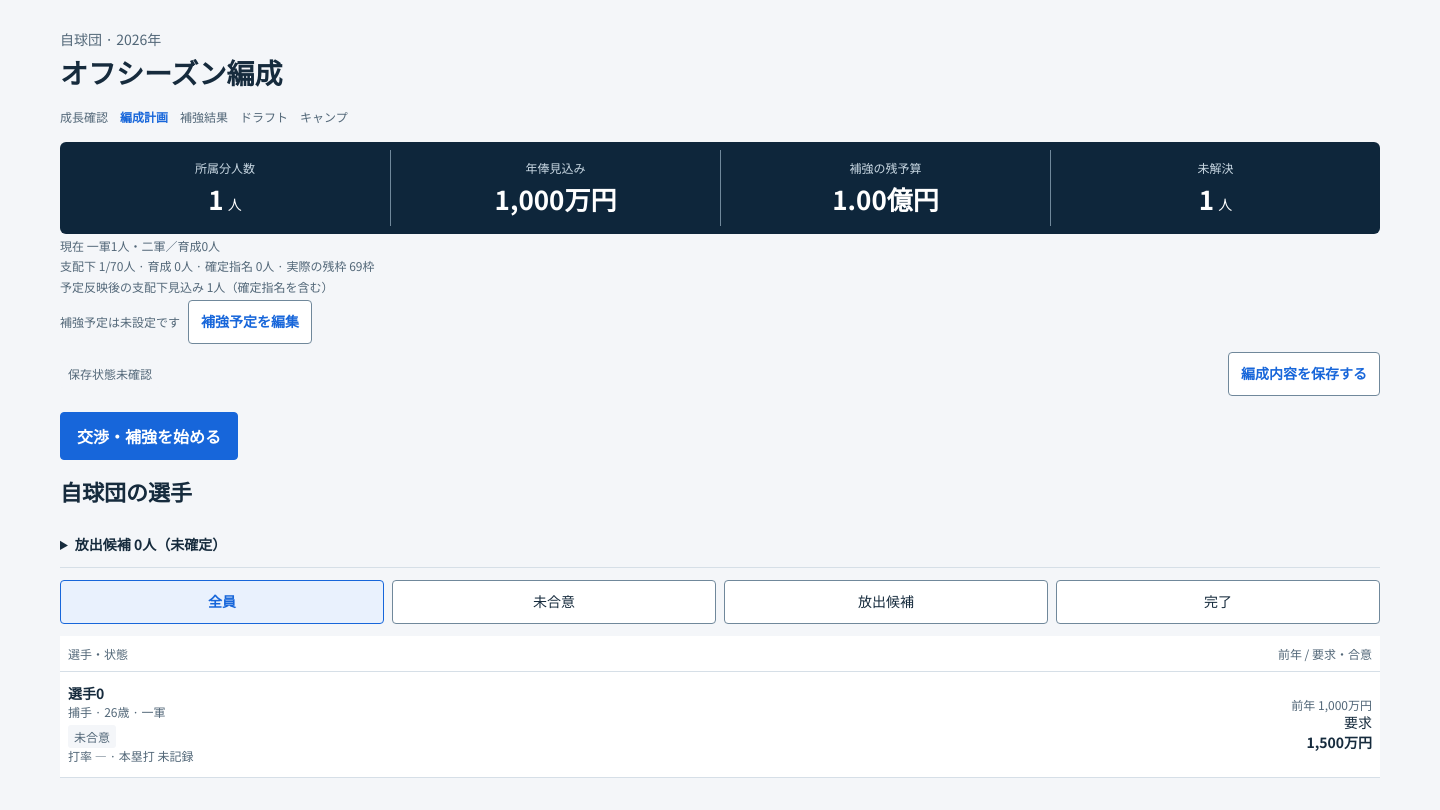
Test: keeps unexpected save rejections visible without exposing exception messages
The width and height of the screenshot is (1440, 810).
Click the button "編成内容を保存する".
click(1304, 374)  # box x1=1228 y1=352 x2=1380 y2=396
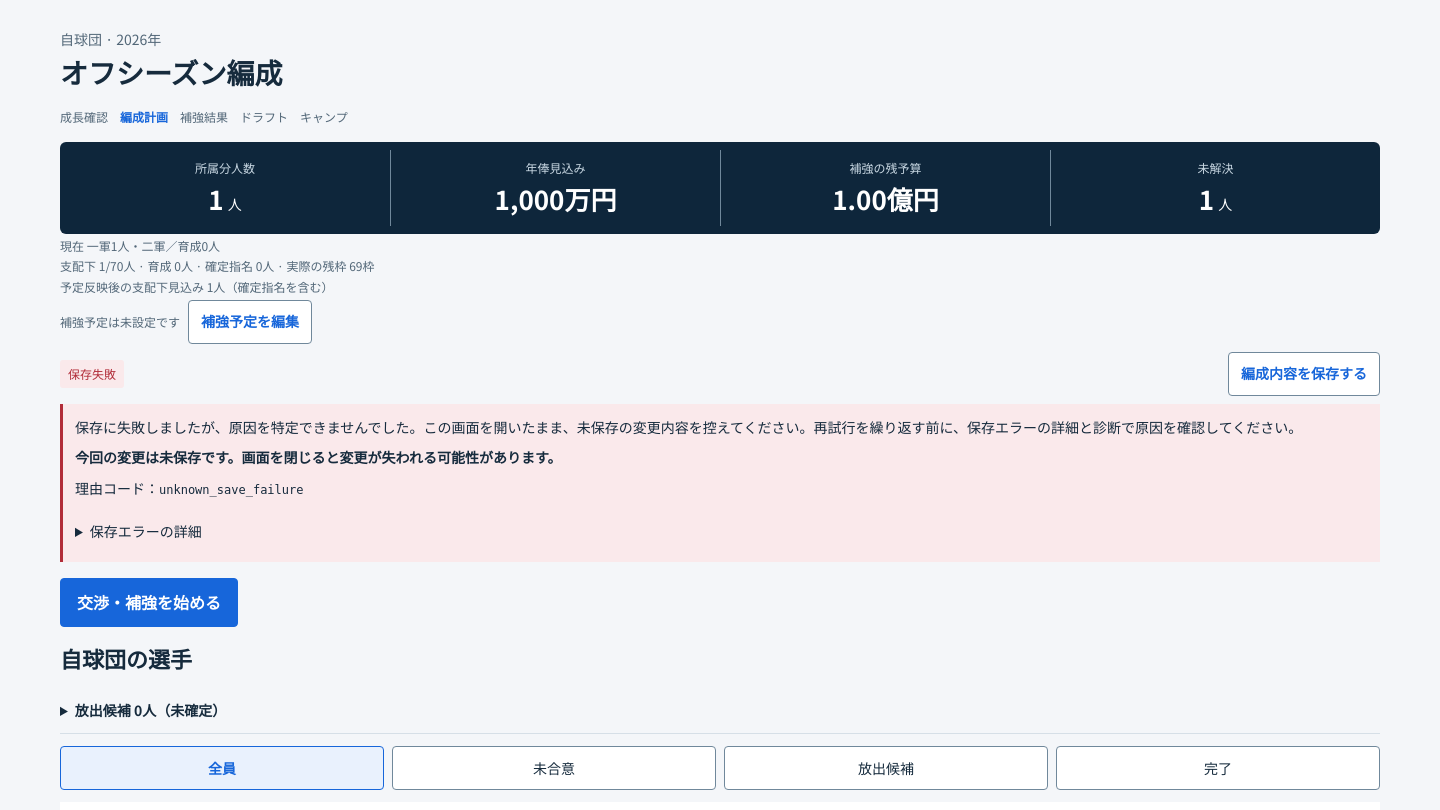
Expected: the message shows "原因を特定できませんでした", x1=75 y1=417 x2=424 y2=437
Expected: the message shows "未保存", x1=60 y1=404 x2=1380 y2=562
